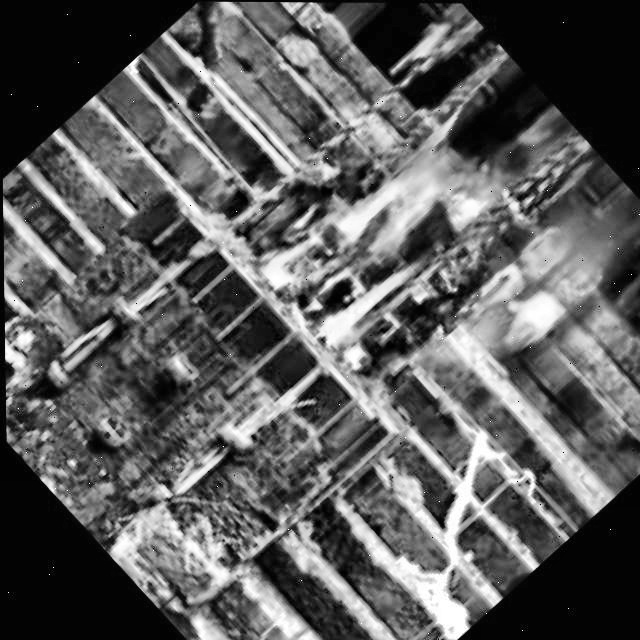Fire: (256, 99, 547, 382)
